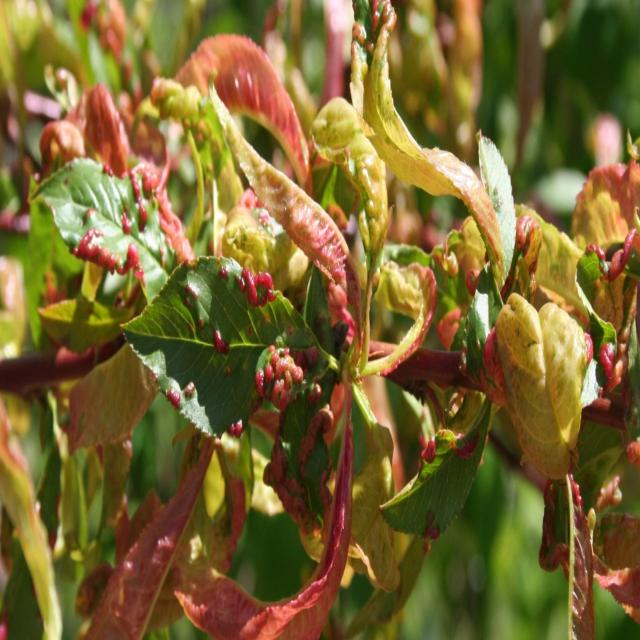peach_leaf_curl: (245, 217, 378, 517), (317, 2, 424, 228), (50, 144, 190, 290), (584, 202, 640, 449)
